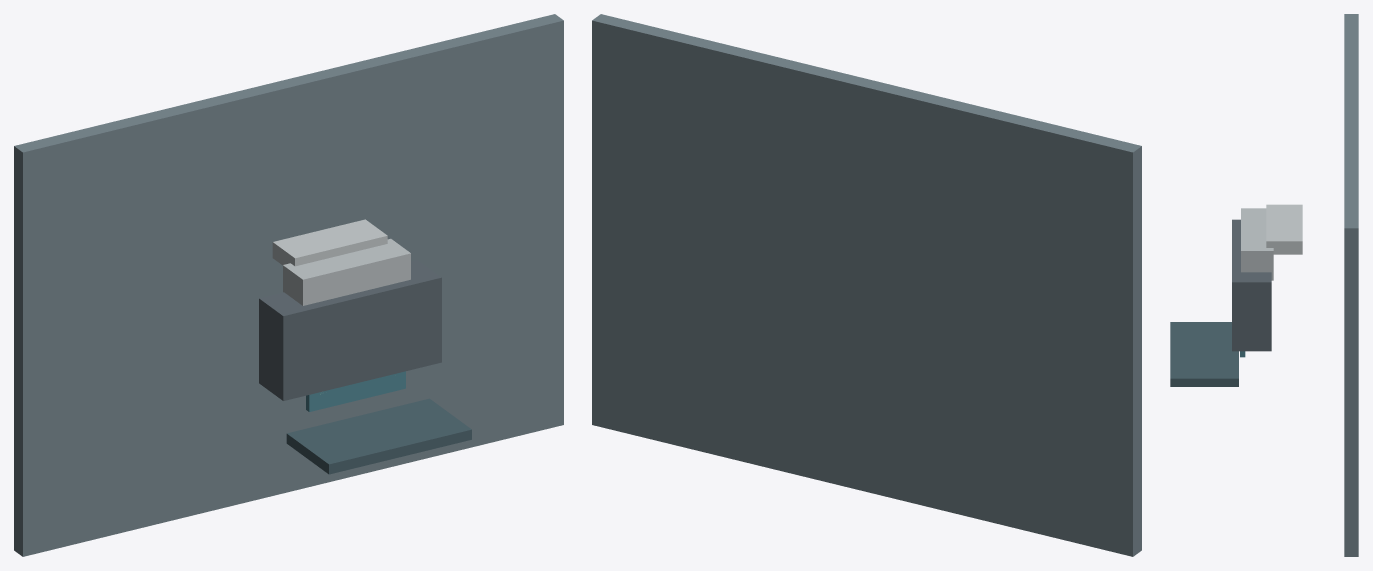
The model's file is oximeter-high.glb.
The picture shows the model from 3 angles, left to right: view 1: azimuth 30°, elevation 25°; view 2: azimuth 150°, elevation 25°; view 3: azimuth 270°, elevation 25°; orthographic projection. The views are drawn at different scales.
Parts seen in each view (by area): view 1: presentation_base_detail, oximeter_body, screen_bezel_detail, oximeter_clip, sensor_pad_detail, oximeter_screen; view 2: presentation_base_detail; view 3: presentation_base_detail, screen_bezel_detail, oximeter_body, oximeter_clip, sensor_pad_detail.
Boxes of the visible parts, x1=… form: presentation_base_detail: x1=14, y1=14, x2=563, y2=556; oximeter_body: x1=259, y1=259, x2=441, y2=400; screen_bezel_detail: x1=286, y1=398, x2=471, y2=474; oximeter_clip: x1=283, y1=238, x2=410, y2=305; sensor_pad_detail: x1=272, y1=219, x2=387, y2=266; oximeter_screen: x1=306, y1=371, x2=405, y2=411; presentation_base_detail: x1=592, y1=14, x2=1141, y2=556; presentation_base_detail: x1=1344, y1=14, x2=1358, y2=556; screen_bezel_detail: x1=1170, y1=322, x2=1238, y2=386; oximeter_body: x1=1232, y1=219, x2=1271, y2=351; oximeter_clip: x1=1241, y1=208, x2=1273, y2=280; sensor_pad_detail: x1=1266, y1=204, x2=1302, y2=254.
Size of the model in its own units: 2.8 by 2 by 1.04.
